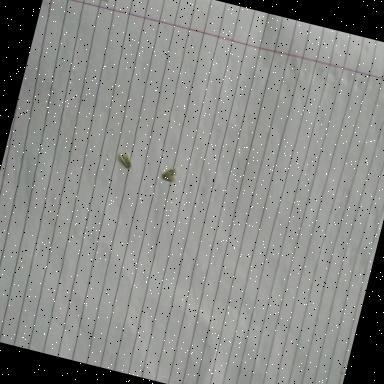pbw: (158, 166, 180, 184), (116, 150, 135, 170)
